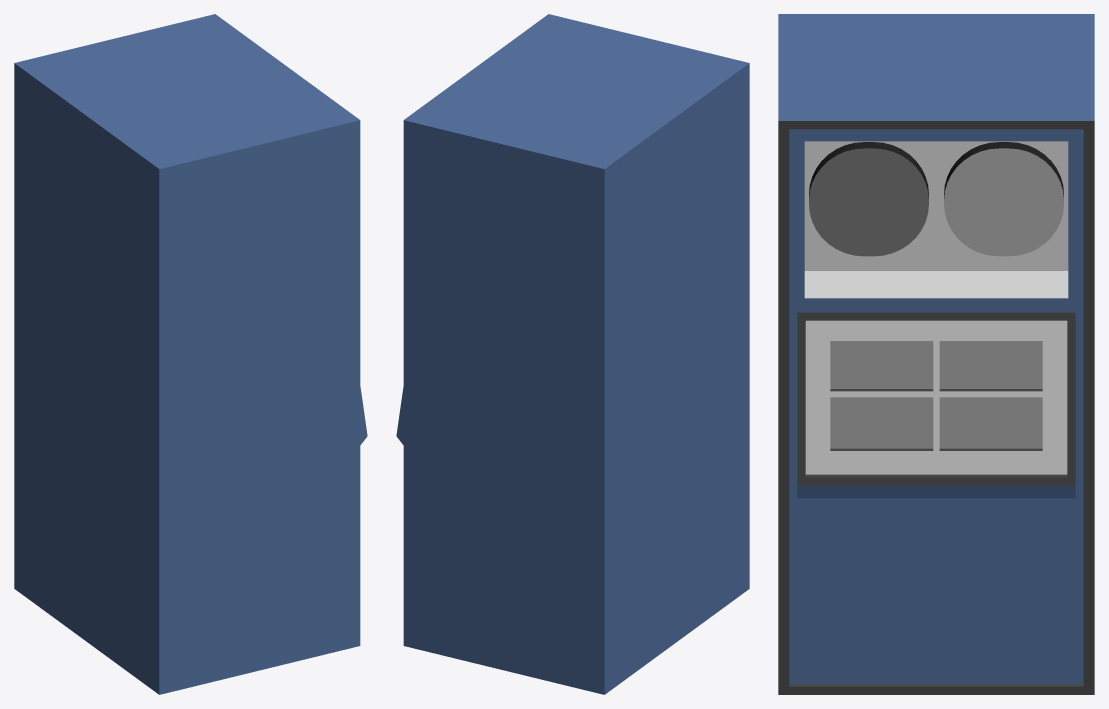
Rendered from TapeReel_1.fbx.
The picture shows the model from 3 angles, left to right: view 1: azimuth 30°, elevation 25°; view 2: azimuth 150°, elevation 25°; view 3: azimuth 270°, elevation 25°; orthographic projection. The views are drawn at different scales.
Visible parts, largest first — view 1: Cube; view 2: Cube; view 3: Cube.
Part boxes in pixels (box(x1,y1,x2,y2)): Cube: box(14, 14, 367, 694); Cube: box(396, 14, 749, 694); Cube: box(778, 14, 1094, 694).
Bounding box in the file's own units: 86.38 × 200 × 100.
